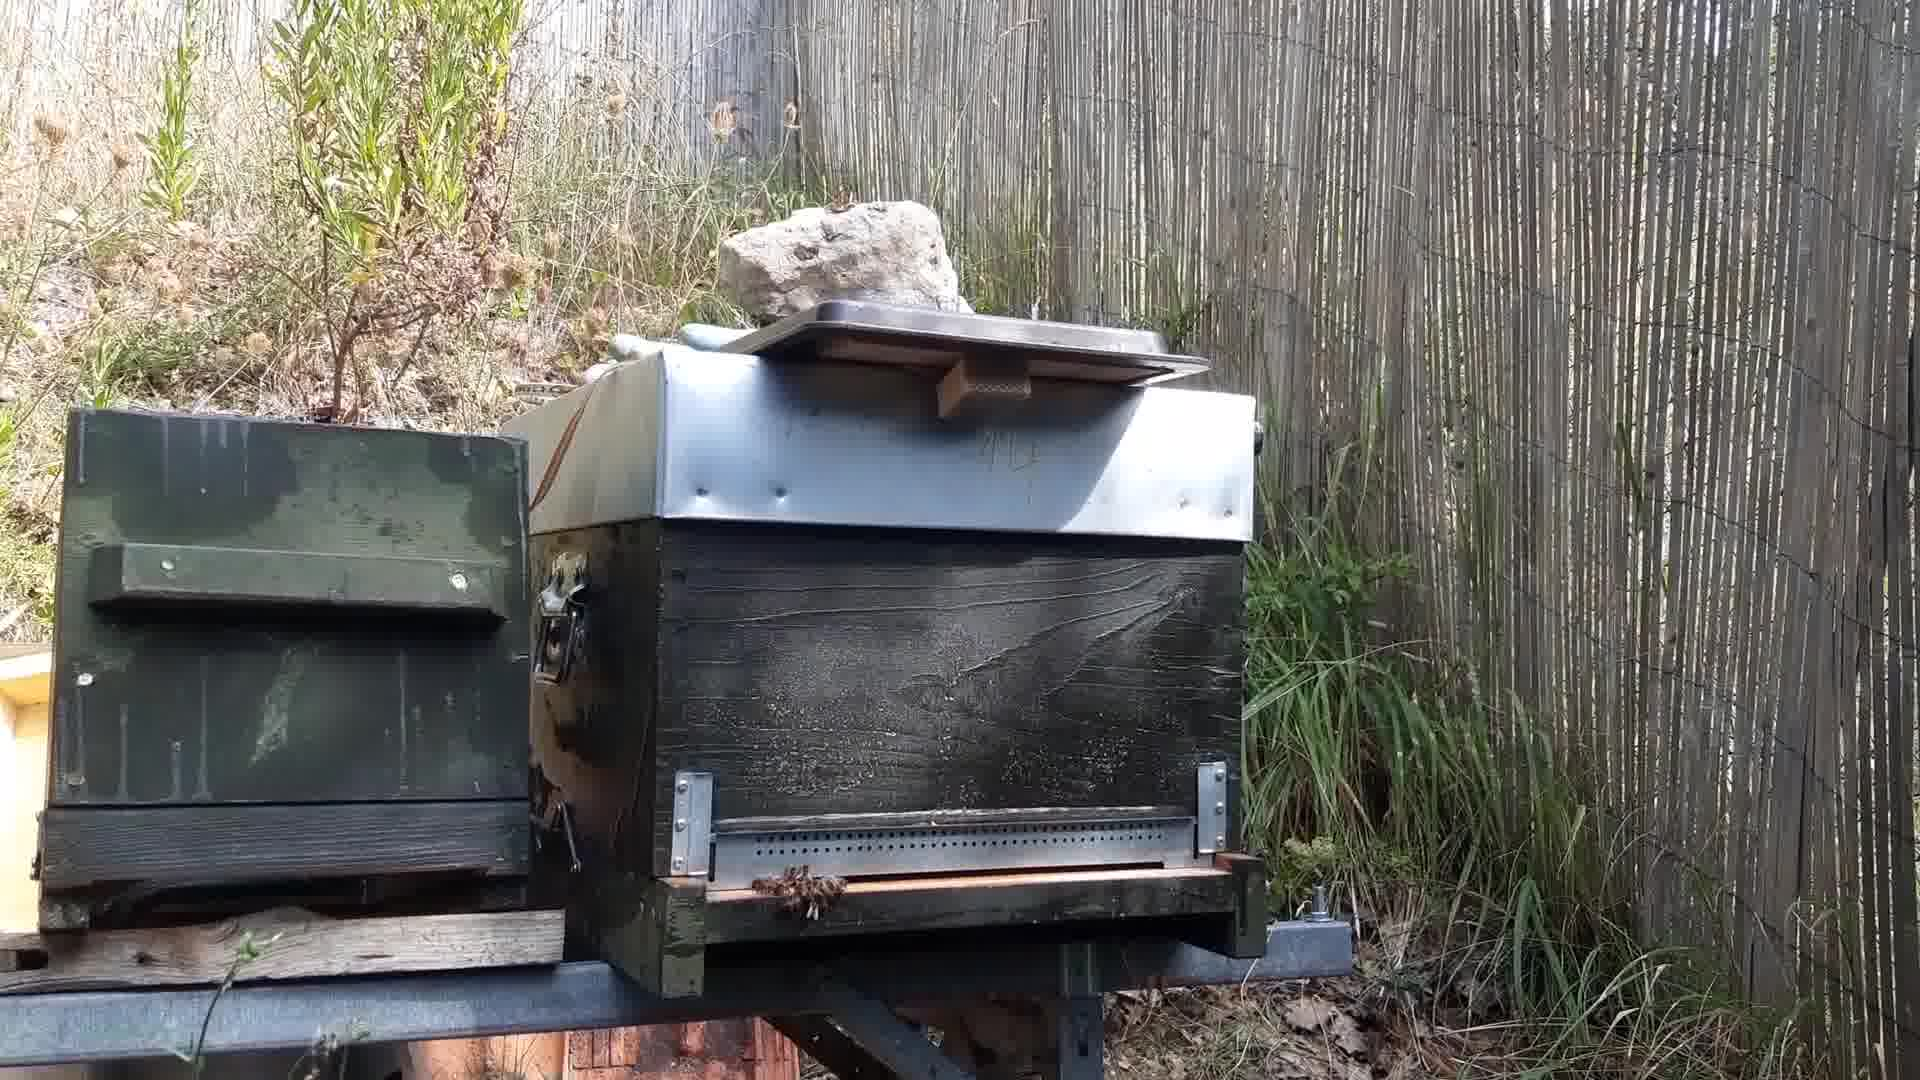bee: (750, 862, 855, 928)
